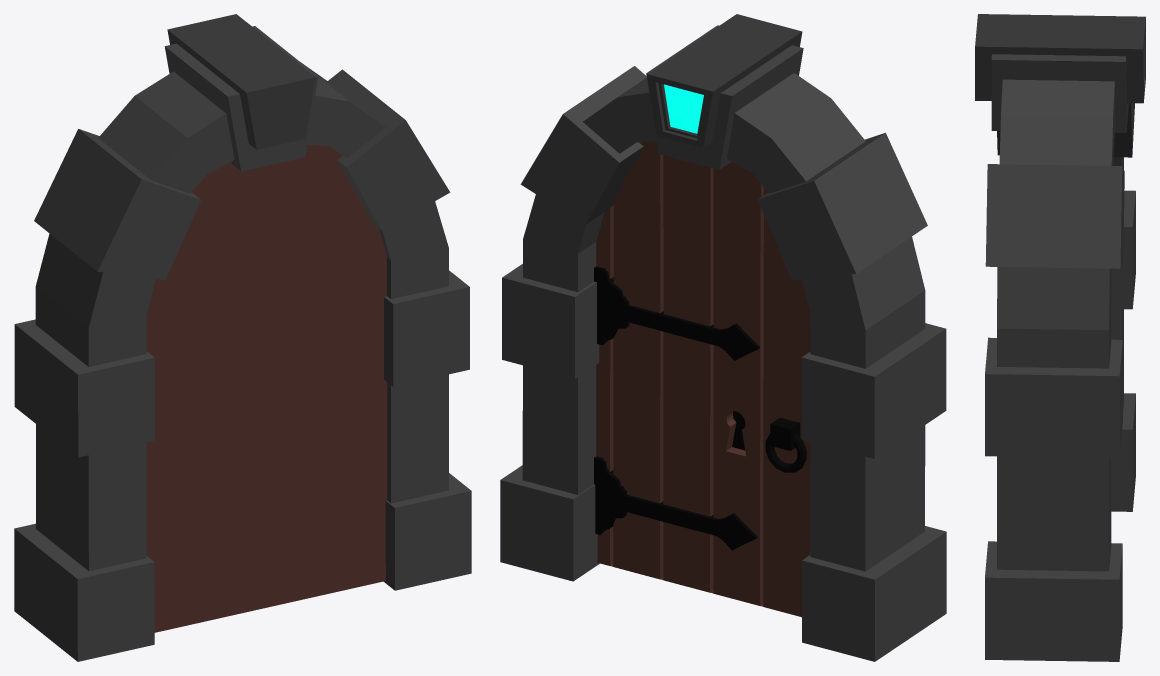
File: door.glb
3 views of the same model, side by side, from view 1: azimuth 30°, elevation 25°; view 2: azimuth 150°, elevation 25°; view 3: azimuth 270°, elevation 25° (orthographic).
Parts seen in each view (by area): view 1: Door; view 2: Door; view 3: Door.
Boxes of the visible parts, left/top/right/bottom form: Door: left=14, top=14, right=471, bottom=661; Door: left=500, top=14, right=946, bottom=661; Door: left=975, top=14, right=1145, bottom=661.
Bounding box in the file's own units: 1.07 × 1.41 × 0.4089.
